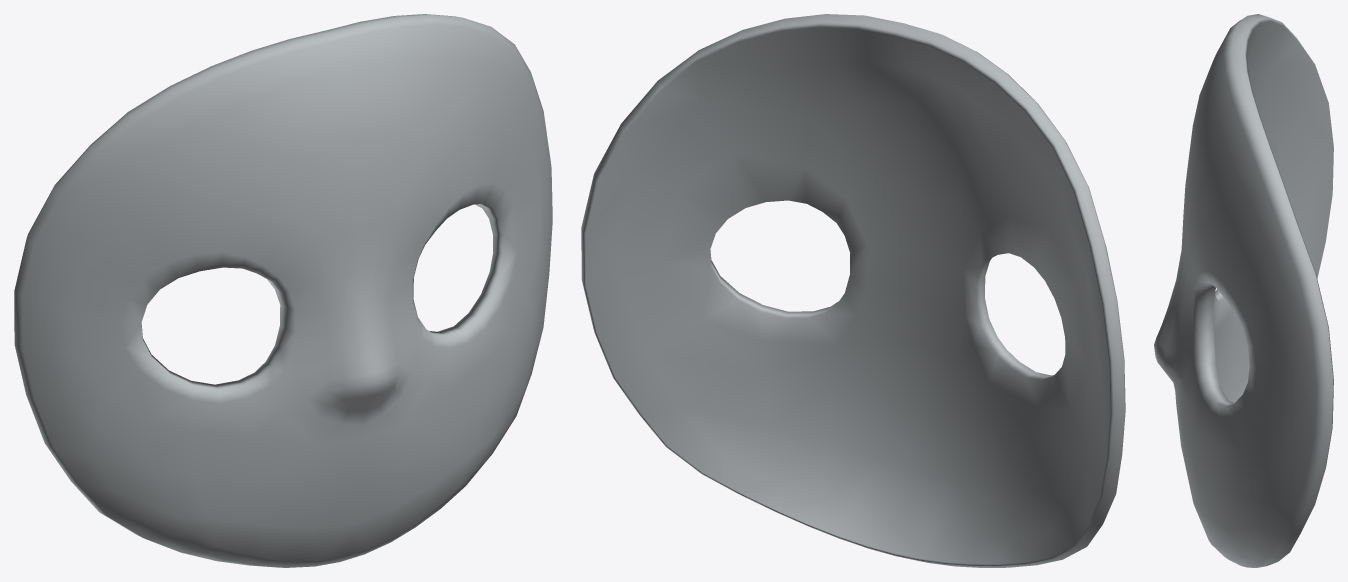
The model's file is CapMaskHockey0.glb.
3 renders of one model, left to right at view 1: azimuth 30°, elevation 25°; view 2: azimuth 150°, elevation 25°; view 3: azimuth 270°, elevation 25°, orthographic. The views are drawn at different scales.
Visible parts, largest first — view 1: Accessory__mCap; view 2: Accessory__mCap; view 3: Accessory__mCap.
Boxes of the visible parts, <box> form: Accessory__mCap: <box>14,14,552,567</box>; Accessory__mCap: <box>581,14,1125,567</box>; Accessory__mCap: <box>1154,14,1333,567</box>.
Size of the model in its own units: 5.67 by 5.32 by 1.78.
1 material, 1 textured.
